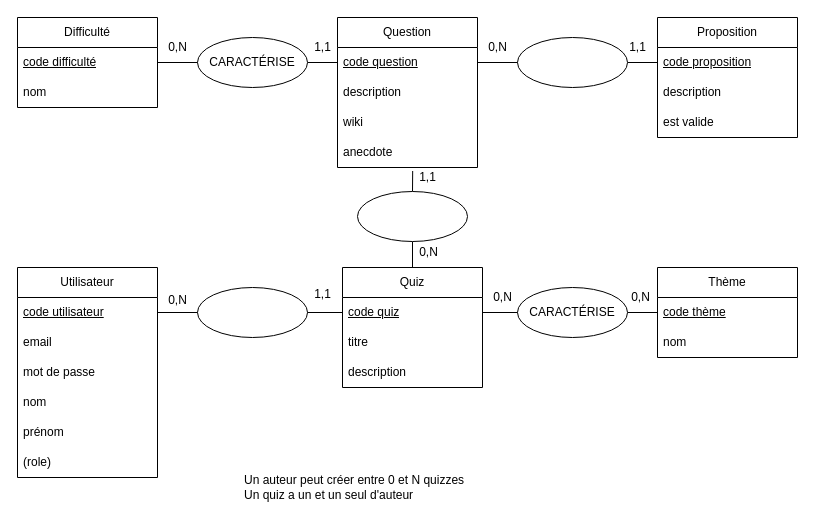
The diagram is 815 pixels wide and 525 high, and some of its shapes have lost their labels. Each missing label, with the box of its shape:
APPARTIENT: (356, 190, 468, 242)
CRÉÉ: (196, 286, 308, 338)
POSSÈDE: (516, 36, 628, 88)
